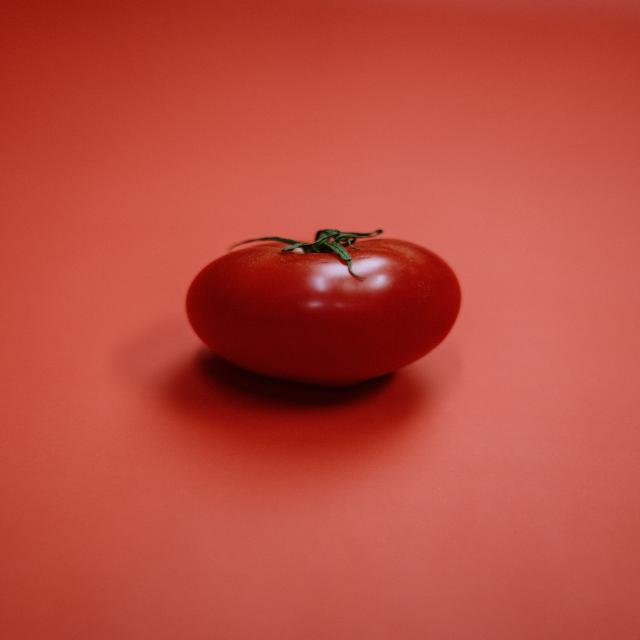Tomato: (158, 221, 494, 389)
